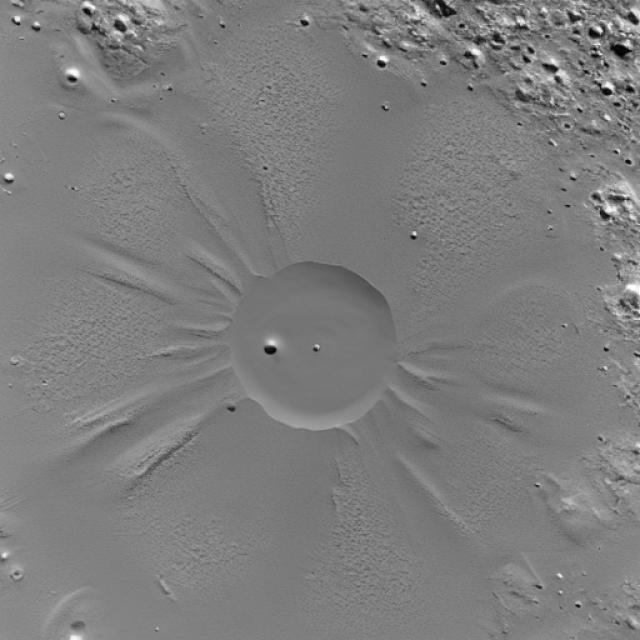crater: (226, 262, 400, 430)
